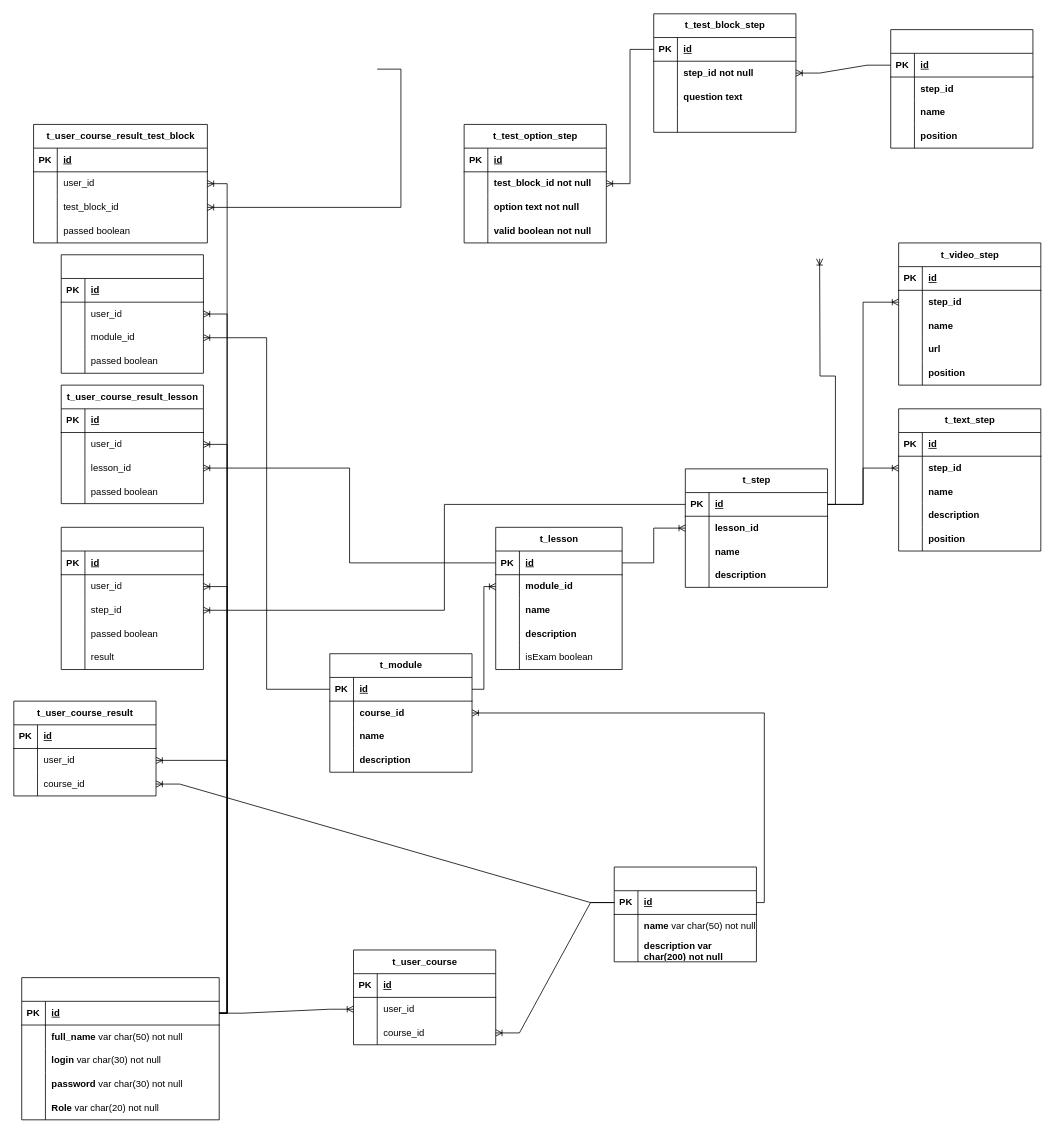
Some shapes in this 1055 by 1134 pixel diagram are drawn without their labels. The shapes that lost their labels are listed below. From the top down, each one's box as (x1, y1, x2, y2) in pixels, then its label:
(890, 29, 1033, 148): t_test_step
(60, 254, 203, 373): t_user_course_result_module
(60, 527, 203, 670): t_user_course_result_step
(613, 866, 756, 962): Table t_course
(21, 977, 219, 1120): Table t_user
